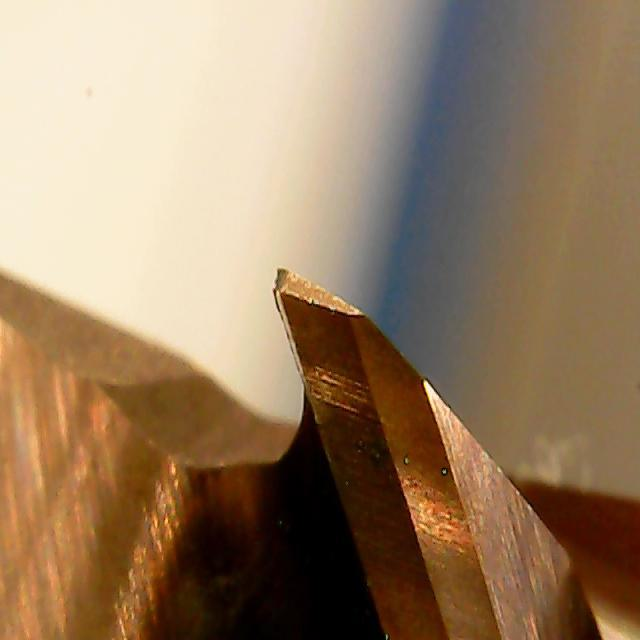Tool-wear-class-1: (258, 261, 418, 472)
